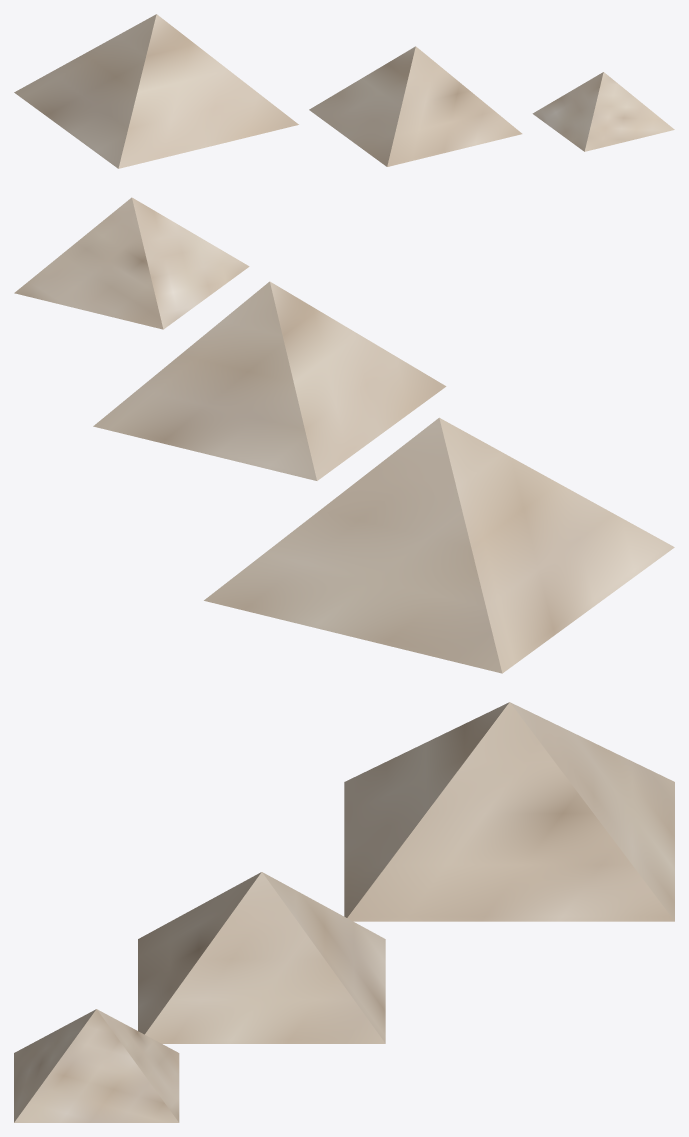
Rendered from pyramide.glb.
3 views of the same model, one above another, from view 1: azimuth 30°, elevation 25°; view 2: azimuth 150°, elevation 25°; view 3: azimuth 270°, elevation 25° (orthographic). The views are drawn at different scales.
Visible parts, largest first — view 1: Cube; view 2: Cube; view 3: Cube.
Part boxes in pixels (box(x1,y1,x2,y2)): Cube: box(14, 14, 674, 168); Cube: box(14, 197, 674, 673); Cube: box(14, 702, 674, 1122).
Size of what is drawn, in the model's own units: 10 by 2 by 8.
Materials: 1 (1 with a texture image).
